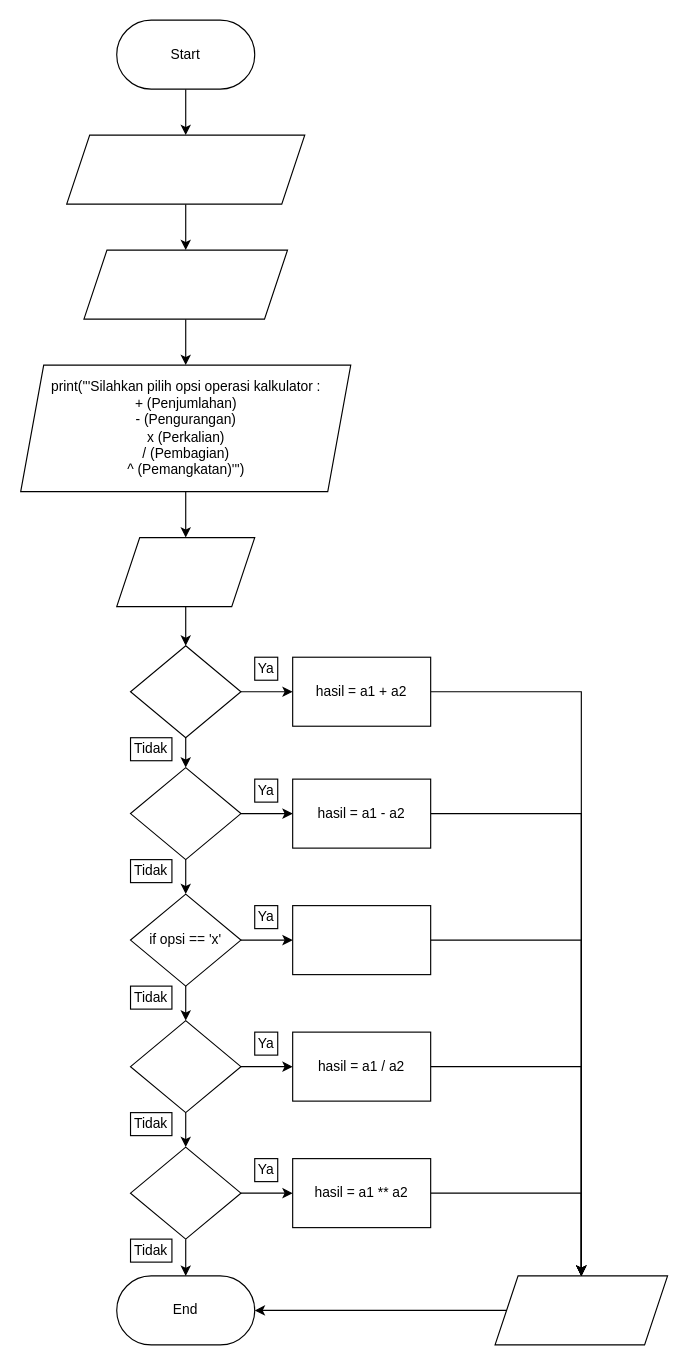
This 688x1365 diagram has some shape labels left out. The shapes that lost their labels are listed below. From the top down, each one's box as (x1, y1, x2, y2) in pixels, then its label:
(66, 134, 305, 204): print('''Silahkan input angka terlebih dahulu untuk inisialisasi''')
(83, 249, 288, 319): a1 = Input angka pertama a2 = Input angka kedua
(116, 536, 255, 607): Input opsi
(129, 645, 241, 738): if opsi == '+'
(129, 766, 241, 860): if opsi == '-'
(292, 904, 431, 975): hasil = a1 * a2
(129, 1019, 241, 1113): if opsi == '/'
(129, 1146, 241, 1239): if opsi == '^'
(494, 1275, 668, 1345): print(f'Hasil = {hasil}')
